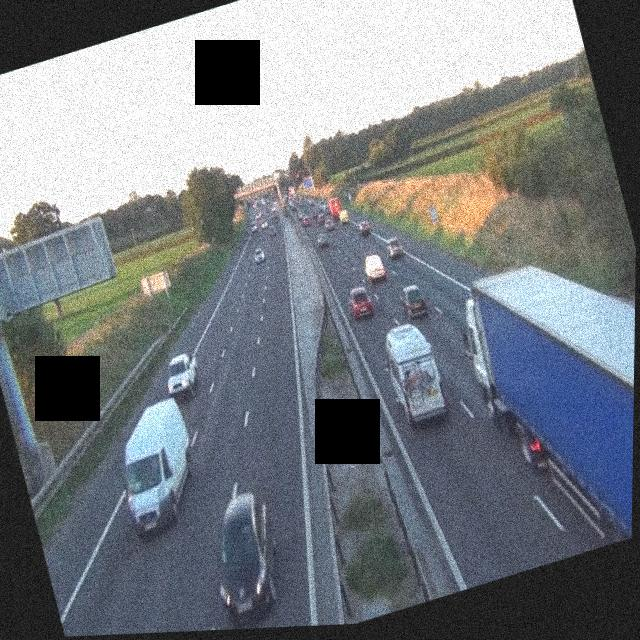car: (104, 391, 213, 539), (197, 486, 295, 630), (160, 348, 204, 402), (396, 281, 429, 322), (346, 283, 374, 318), (361, 250, 388, 285), (383, 234, 404, 259), (314, 228, 330, 248), (356, 218, 372, 236), (252, 246, 266, 264), (321, 217, 334, 232), (301, 212, 313, 227), (266, 223, 278, 238)
truck: (445, 230, 636, 574), (377, 316, 450, 428), (327, 195, 345, 220)
